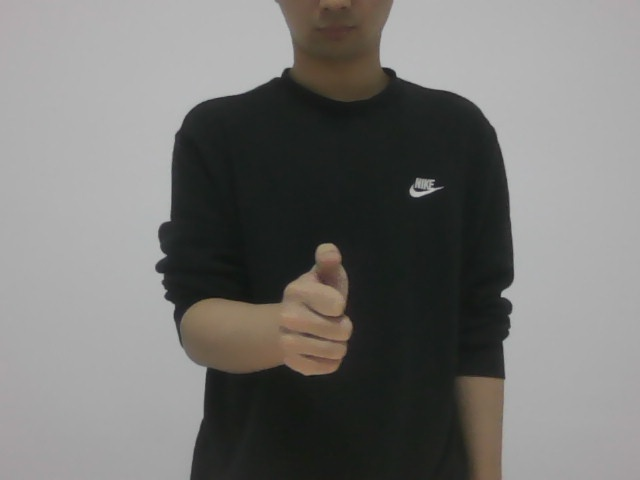thank you: (275, 238, 360, 385)
